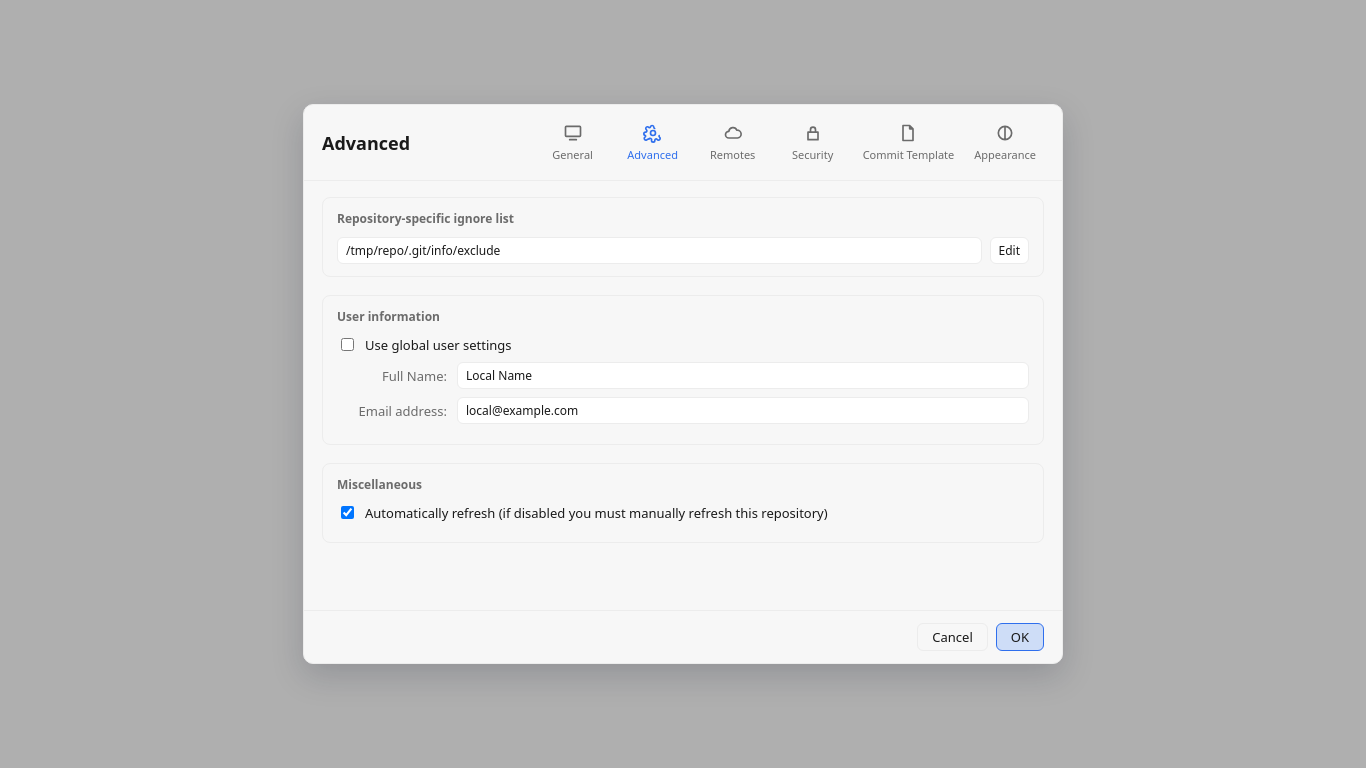
Test: SettingsWindow › imports a template file into the editor
Click the tab "Commit Template". click: (908, 142)
box: [855,117,962,168]
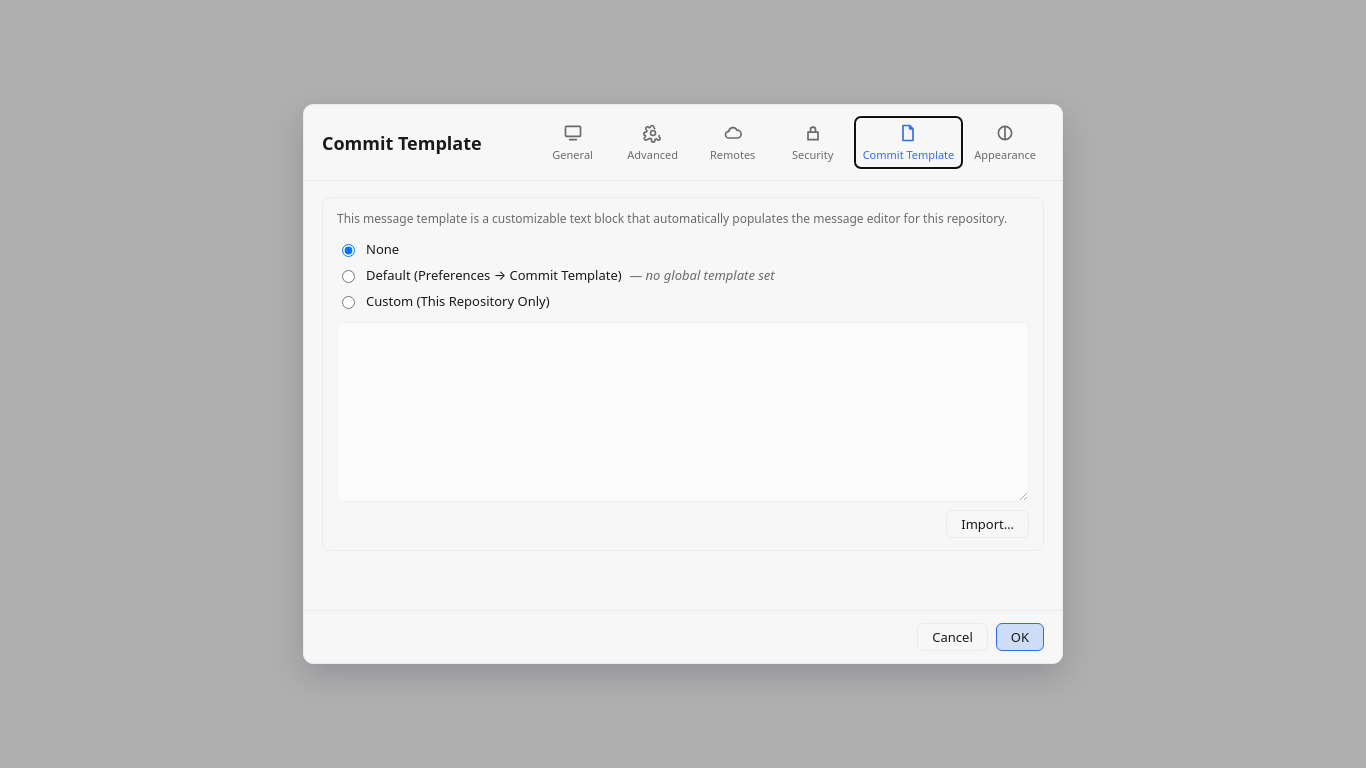
Click the button "Import…". click: (988, 524)
box: [946,510,1029,538]
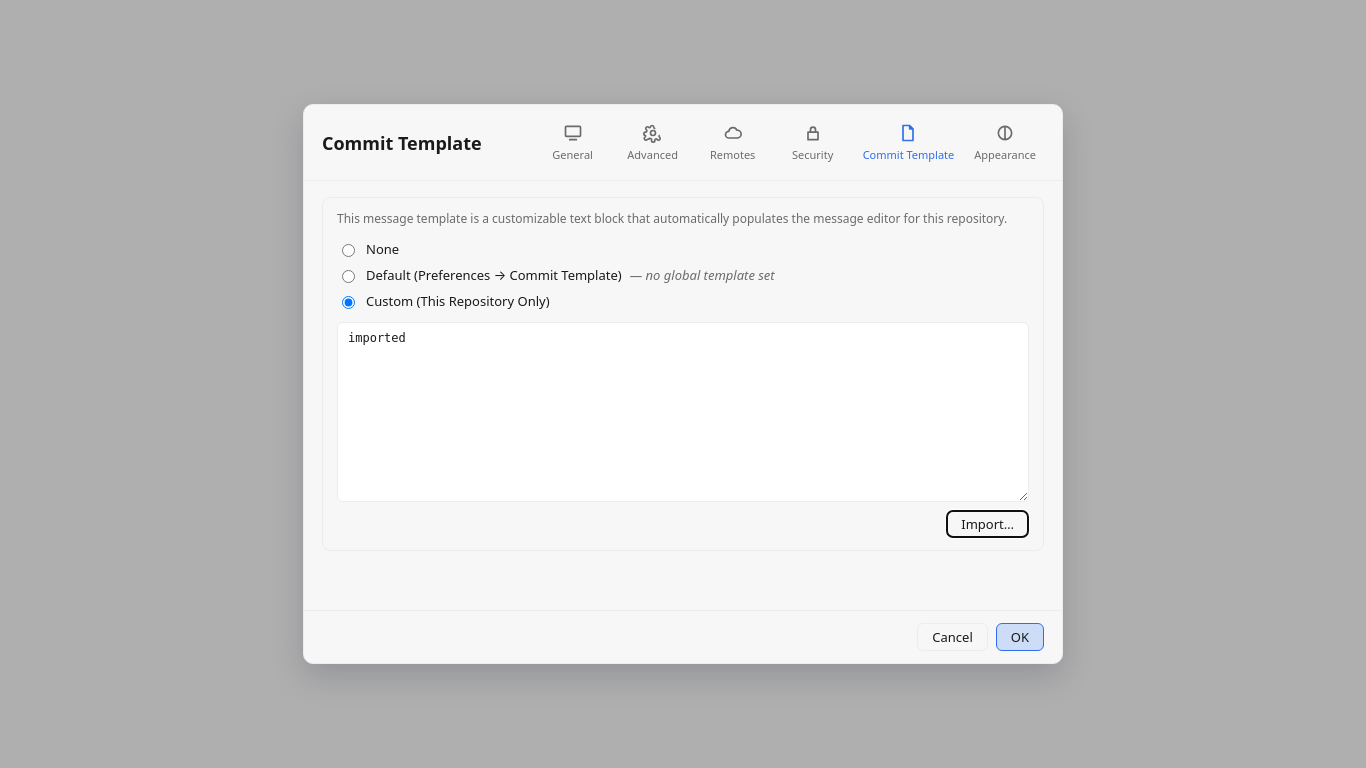
Now the text box showing "imported" is shown, box [337,322,1029,502]
Now the radio button labelled "Custom (This Repository Only)" is checked, box [342,296,355,309]
